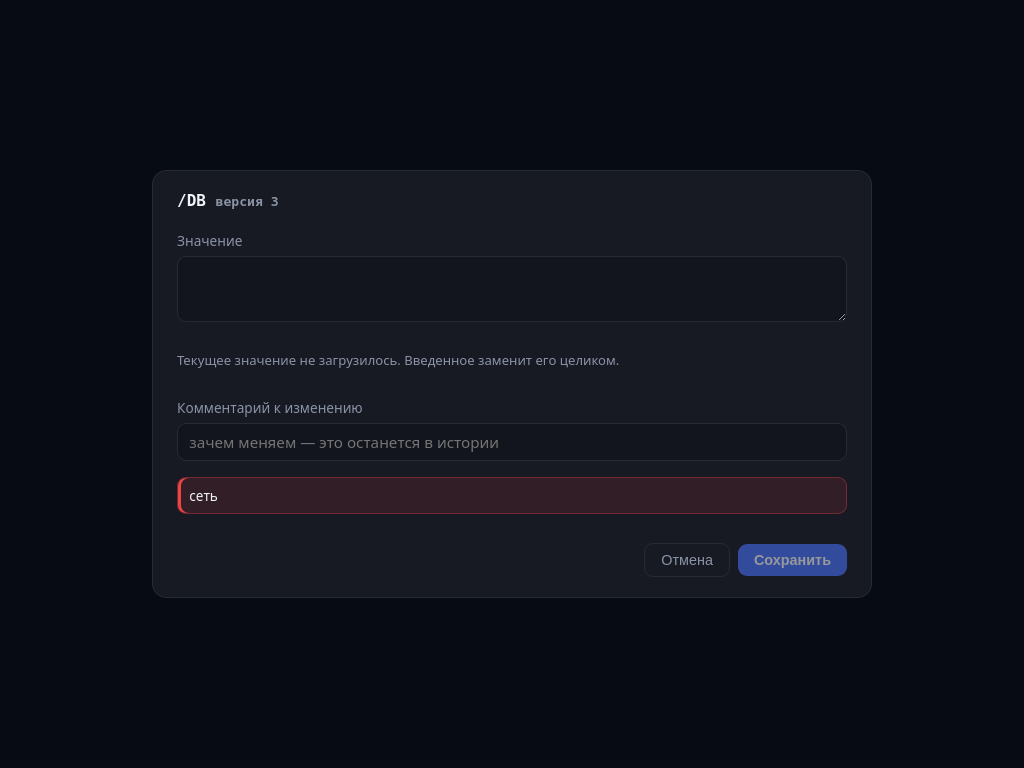
Scenario: окно правки значения › загрузка не удалась: пустое не сохранить, пока ничего не ввели
The width and height of the screenshot is (1024, 768).
Expected: the text "Текущее значение не загрузилось" is shown, left=177, top=351, right=619, bottom=369
Expected: the button "Сохранить" is disabled, left=738, top=544, right=847, bottom=576
Type "new" into the text box labelled "Значение" at (512, 289), box left=177, top=256, right=847, bottom=322
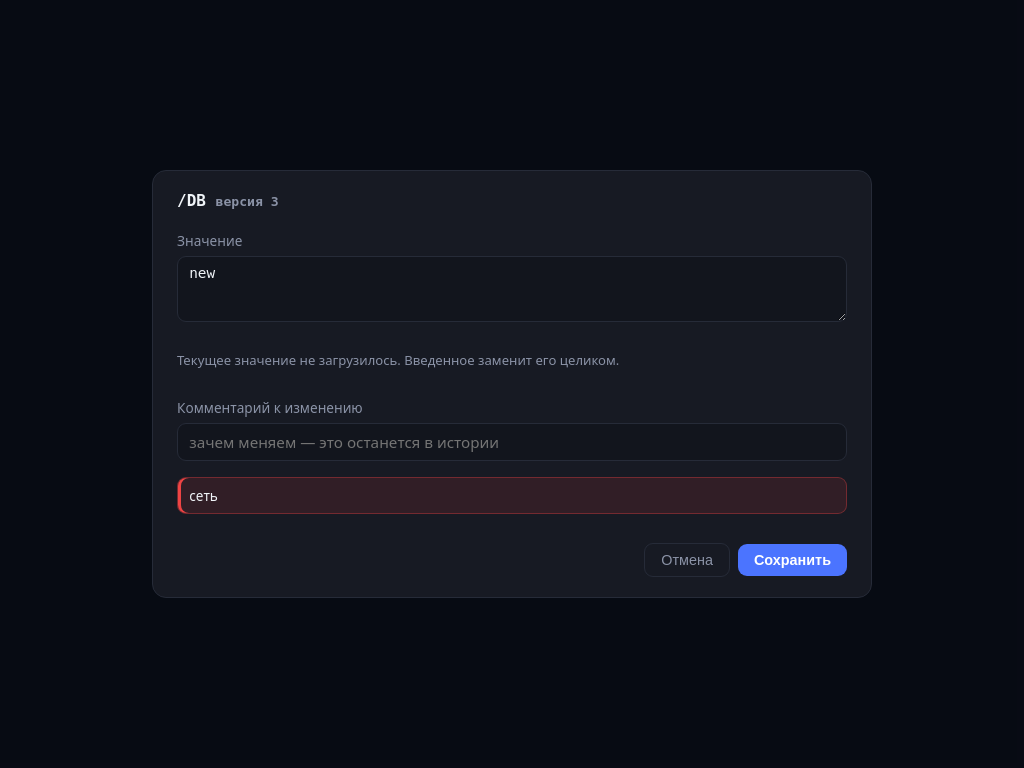
Expected: the button "Сохранить" is enabled, left=738, top=544, right=847, bottom=576
